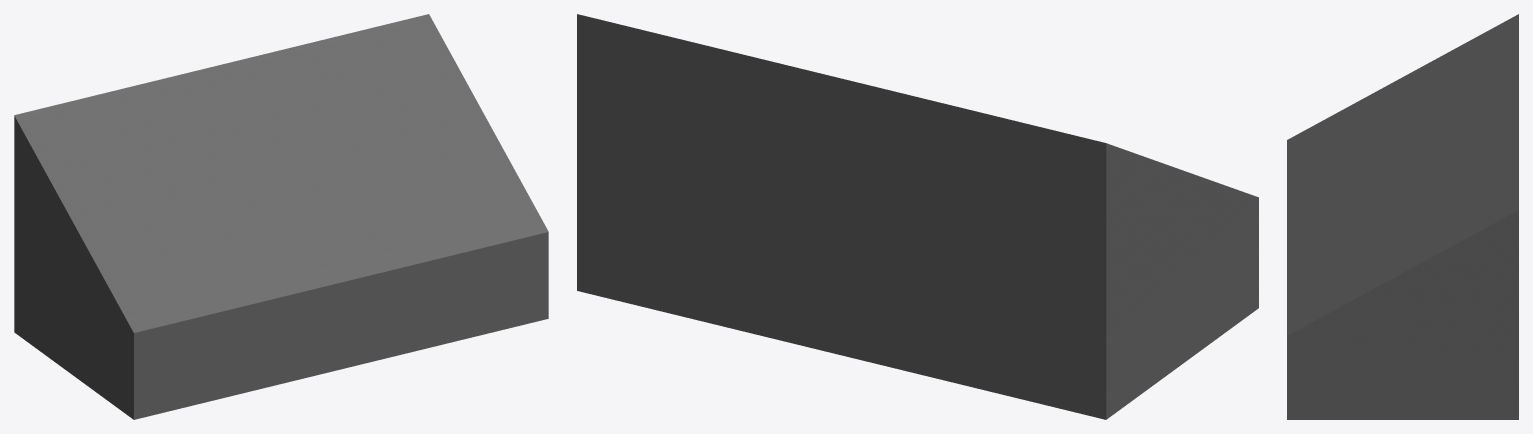
The model's file is Wall_Side.fbx.
3 renders of one model, left to right at view 1: azimuth 30°, elevation 25°; view 2: azimuth 150°, elevation 25°; view 3: azimuth 270°, elevation 25°, orthographic. The views are drawn at different scales.
Parts seen in each view (by area): view 1: Corridor_Wall_Side; view 2: Corridor_Wall_Side; view 3: Corridor_Wall_Side.
Part boxes in pixels (x1,y1,x2,y2): Corridor_Wall_Side: (14,14,548,419); Corridor_Wall_Side: (577,14,1258,419); Corridor_Wall_Side: (1287,14,1518,419).
Size of the model in its own units: 200 by 100 by 100.
2 materials, 2 textured.
